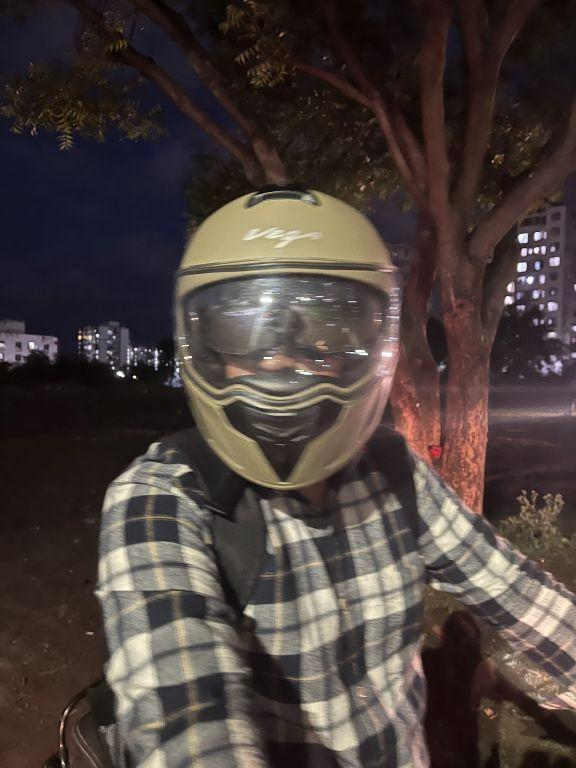helmet: (159, 172, 409, 505)
